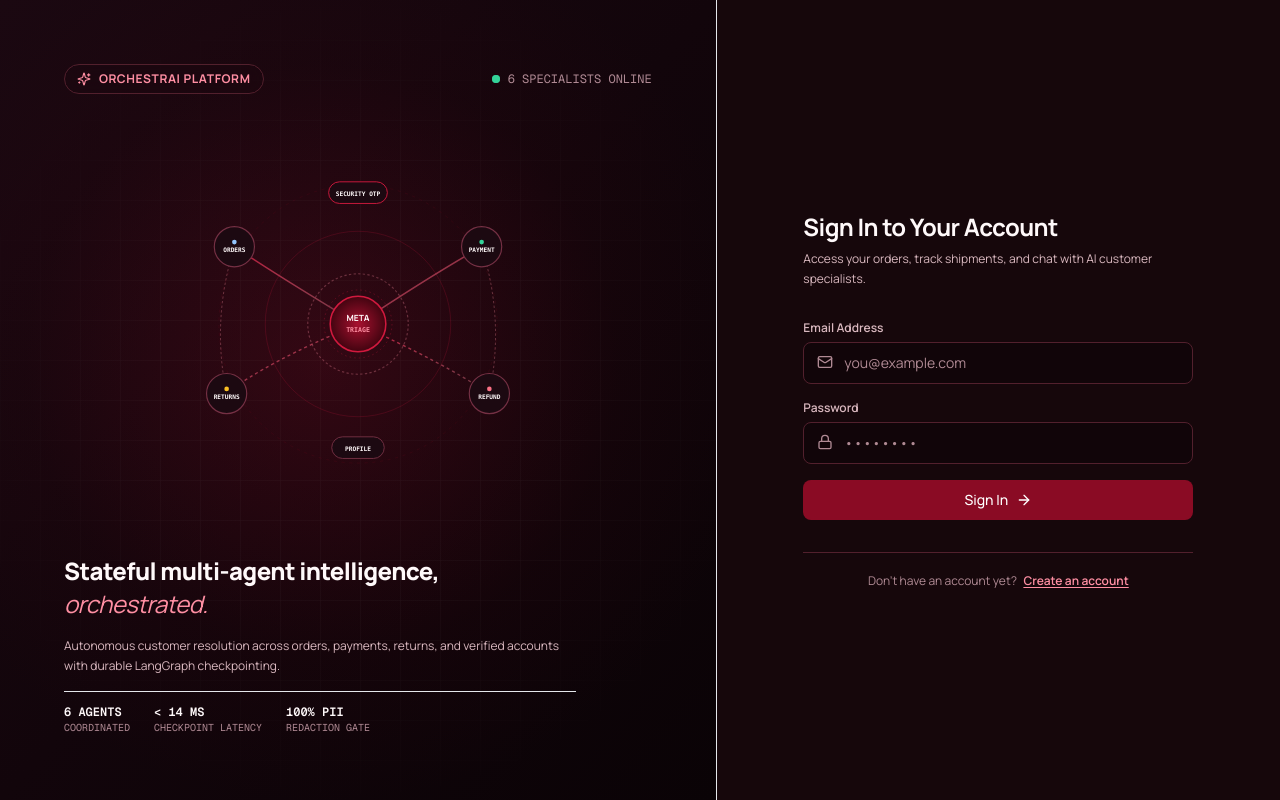
Test: LoginPage › displays error banner when login API rejects
In the field with test id "login-email-input": [998, 363] box [803,342,1193,384], type "john@example.com"
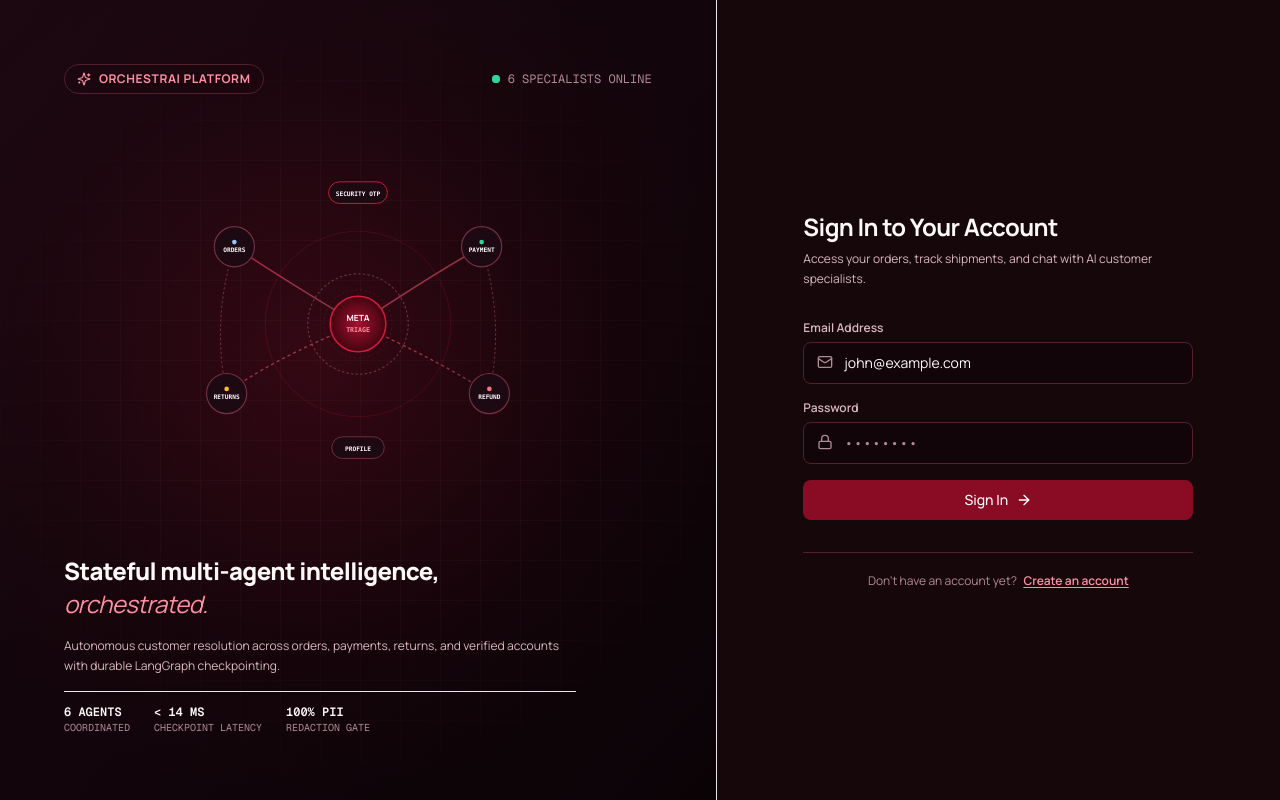
In the password field with test id "login-password-input": [998, 443] box [803,422,1193,464], type "WrongPass"
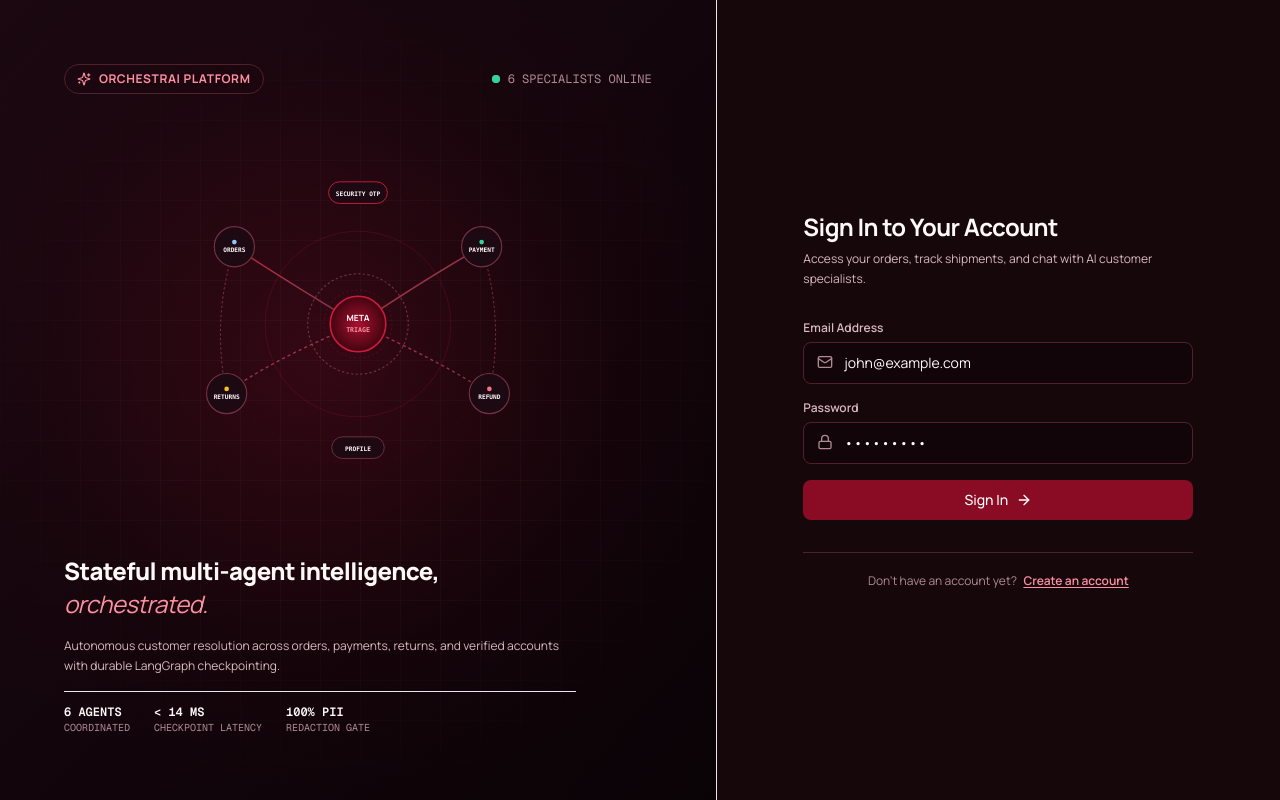
Click the button with test id "login-submit-btn": [998, 500] box [803,480,1193,520]
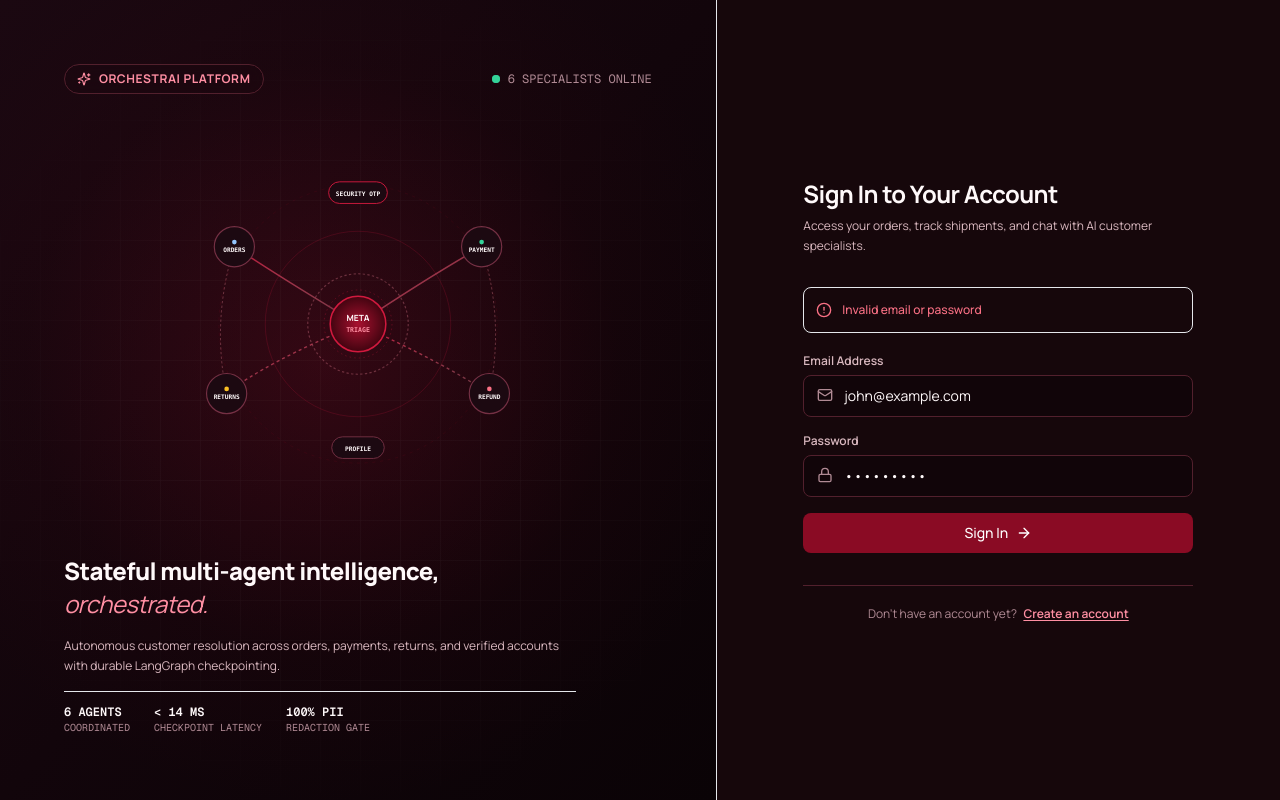
Expected: the message with test id "login-error-banner" reads "Invalid email or password", [842,301,982,318]
